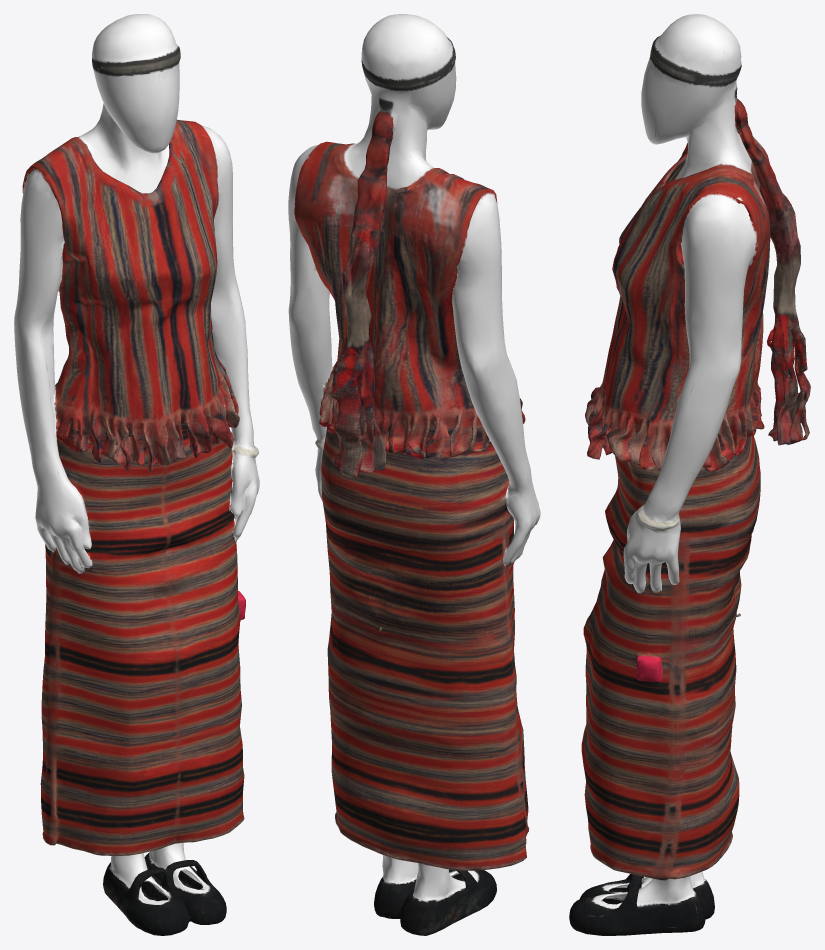
Rendered from Ro_mam_nu_00001.glb.
The picture shows the model from 3 angles, left to right: view 1: azimuth 30°, elevation 25°; view 2: azimuth 150°, elevation 25°; view 3: azimuth 270°, elevation 25°; orthographic projection. The views are drawn at different scales.
Bounding box in the file's own units: 0.2447 × 0.9512 × 0.2307.
Materials: 1 (1 with a texture image).
